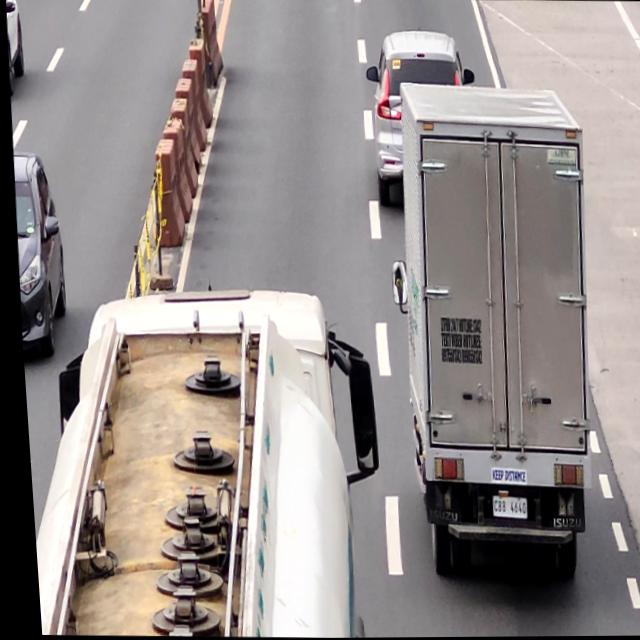Car: (360, 28, 481, 211)
License-Plate: (485, 496, 520, 520)
Truck: (15, 282, 383, 639), (372, 81, 605, 589)
